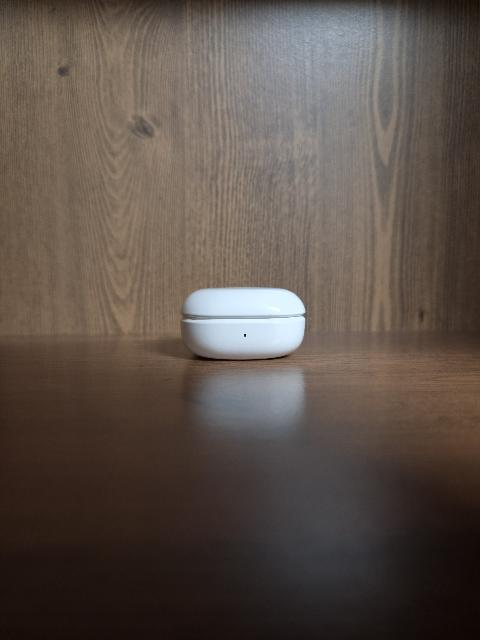earphone_case: (180, 287, 306, 360)
